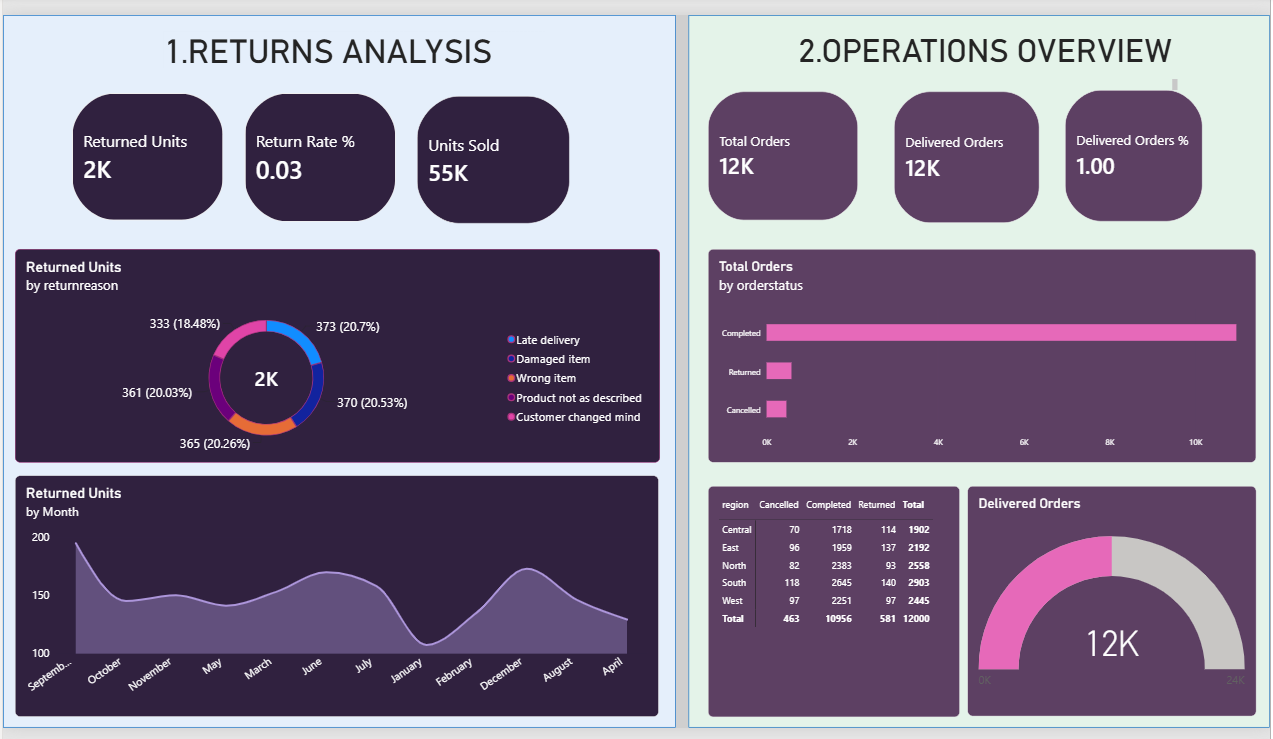

The page's visual inventory and layout, read from the dashboard file:
{"tool":"powerbi","page":{"name":"Returns & Operations","canvas":[1920,1080],"ordinal":5},"visuals":[{"type":"shape","box":[0,0,1018.6,1079.1],"z":0},{"type":"shape","box":[1037.2,0,881.4,1079.1],"z":1000},{"type":"cardVisual","fields":{"Data":["Order_items.Returned Units"]},"box":[104.5,118.2,229.5,193.2],"z":2000},{"type":"donutChart","fields":{"Category":["Returns.returnreason"],"Y":["Order_items.Returned Units"]},"box":[18.6,353.5,976.7,323.3],"z":3000},{"type":"lineChart","fields":{"Category":["Returns.returndate","Calendar.Month"],"Y":["Order_items.Returned Units"]},"box":[18.6,697.7,974.4,365.1],"z":4000},{"type":"cardVisual","fields":{"Data":["Order_items.Total Orders"]},"box":[1067.5,115.8,227.1,195.3],"z":5000},{"type":"cardVisual","fields":{"Data":["Order_items.Delivered Orders"]},"box":[1349.2,115.8,220.3,199.9],"z":6000},{"type":"barChart","fields":{"Category":["Orders.orderstatus"],"Y":["Order_items.Total Orders"]},"box":[1067.4,353.5,830.2,323.3],"z":7000},{"type":"gauge","fields":{"Y":["Order_items.Delivered Orders"]},"box":[1460.5,714,437.2,348.8],"z":8000},{"type":"pivotTable","fields":{"Columns":["Orders.orderstatus"],"Rows":["Customers.region"],"Values":["Order_items.Total Orders"]},"box":[1067.5,713.2,381.6,349.8],"z":9000},{"type":"textbox","title":"1.RETURNS ANALYSIS","box":[242.5,25,577.5,55],"z":10000},{"type":"cardVisual","fields":{"Data":["Order_items.Delivered Orders %"]},"box":[1608.1,113.6,209,199.9],"z":11000},{"type":"textbox","title":"2.OPERATIONS OVERVIEW","box":[1204.7,25.6,574.4,88.4],"z":12000},{"type":"cardVisual","fields":{"Data":["Order_items.Return Rate %"]},"box":[365.9,118.2,229.5,195.5],"z":14000},{"type":"cardVisual","fields":{"Data":["Order_items.Units Sold"]},"box":[627.3,122.7,231.8,193.2],"z":15000}]}

Visuals, with their boxes on the page's 1920x1080 design canvas (x1, y1, x2, y2). These are canvas units, not pixel positions in the 1273x739 screenshot, which may show the page scaled, cropped or inside an application window:
shape: rect(0, 0, 1019, 1079)
shape: rect(1037, 0, 1919, 1079)
cardVisual - Order_items.Returned Units: rect(104, 118, 334, 311)
donutChart - Returns.returnreason x Order_items.Returned Units: rect(19, 354, 995, 677)
lineChart - Returns.returndate x Calendar.Month: rect(19, 698, 993, 1063)
cardVisual - Order_items.Total Orders: rect(1068, 116, 1295, 311)
cardVisual - Order_items.Delivered Orders: rect(1349, 116, 1570, 316)
barChart - Orders.orderstatus x Order_items.Total Orders: rect(1067, 354, 1898, 677)
gauge - Order_items.Delivered Orders: rect(1460, 714, 1898, 1063)
pivotTable - Orders.orderstatus x Customers.region: rect(1068, 713, 1449, 1063)
"1.RETURNS ANALYSIS" textbox: rect(242, 25, 820, 80)
cardVisual - Order_items.Delivered Orders %: rect(1608, 114, 1817, 314)
"2.OPERATIONS OVERVIEW" textbox: rect(1205, 26, 1779, 114)
cardVisual - Order_items.Return Rate %: rect(366, 118, 595, 314)
cardVisual - Order_items.Units Sold: rect(627, 123, 859, 316)
